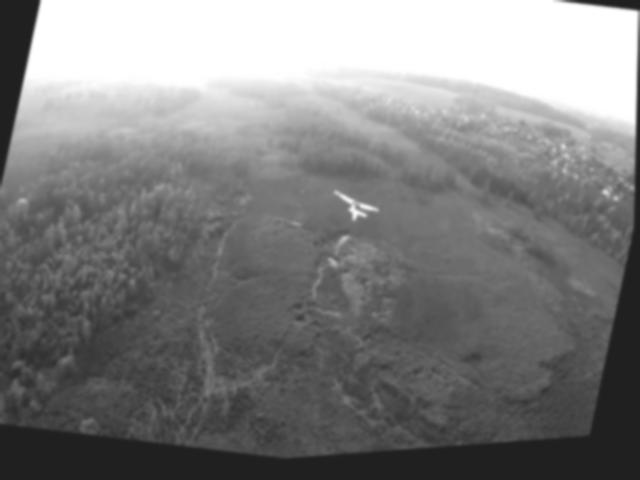hedef: (319, 189, 390, 240)
